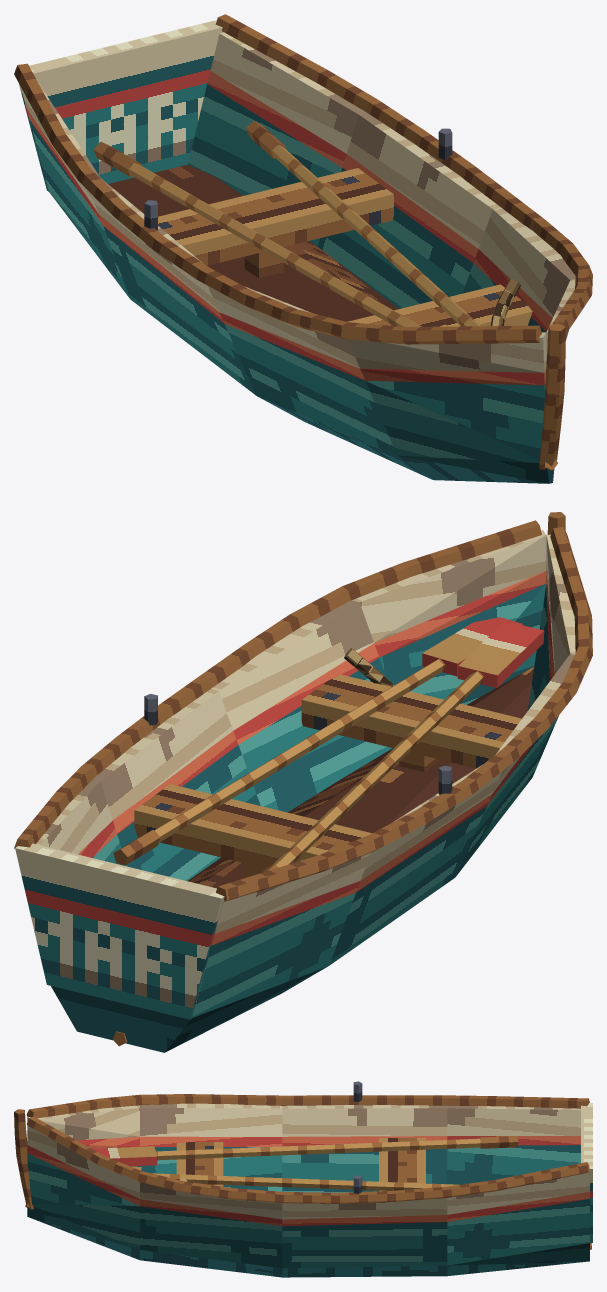
The model's file is boat.glb.
3 renders of one model, top to bottom at view 1: azimuth 30°, elevation 25°; view 2: azimuth 150°, elevation 25°; view 3: azimuth 270°, elevation 25°, orthographic. The views are drawn at different scales.
Parts seen in each view (by area): view 1: boat__transom, boat__bottom, boat__low3~x, boat__rail~x, boat__bench1, boat__rail, boat__low2~x, boat__cr1, boat__low0, boat__low1, boat__cr0, boat__low1~x (+20 smaller); view 2: boat__transom, boat__bottom, boat__rail, boat__rail~x, boat__bench2, boat__low0~x, boat__bench1, boat__cr2, boat__cr3, boat__low2, boat__cr1, boat__low1~x (+19 smaller); view 3: boat__low1, boat__rail, boat__bottom, boat__low0, boat__low2, boat__rail~x, boat__low3, boat__cr1~x, boat__cr2~x, boat__low0~x, boat__cr0~x, boat__low1~x (+22 smaller).
Part boxes in pixels (x1=…): boat__transom: x1=15, y1=20, x2=223, y2=191; boat__bottom: x1=108, y1=164, x2=554, y2=483; boat__low3~x: x1=365, y1=380, x2=546, y2=462; boat__rail~x: x1=14, y1=63, x2=541, y2=344; boat__bench1: x1=158, y1=168, x2=393, y2=265; boat__rail: x1=215, y1=14, x2=592, y2=332; boat__low2~x: x1=224, y1=324, x2=396, y2=455; boat__cr1: x1=346, y1=113, x2=500, y2=248; boat__low0: x1=187, y1=84, x2=341, y2=246; boat__low1: x1=317, y1=168, x2=473, y2=308; boat__cr0: x1=210, y1=32, x2=366, y2=153; boat__low1~x: x1=103, y1=226, x2=256, y2=395; boat__transom: x1=15, y1=843, x2=224, y2=1019; boat__bottom: x1=51, y1=667, x2=534, y2=1052; boat__rail: x1=14, y1=520, x2=541, y2=848; boat__rail~x: x1=215, y1=527, x2=592, y2=901; boat__bench2: x1=301, y1=674, x2=521, y2=768; boat__low0~x: x1=192, y1=893, x2=355, y2=1017; boat__bench1: x1=134, y1=784, x2=371, y2=868; boat__cr2: x1=211, y1=600, x2=373, y2=730; boat__cr3: x1=352, y1=530, x2=546, y2=642; boat__low2: x1=238, y1=658, x2=392, y2=812; boat__cr1: x1=93, y1=689, x2=233, y2=819; boat__low1~x: x1=329, y1=806, x2=486, y2=965; boat__low1: x1=282, y1=1222, x2=447, y2=1268; boat__rail: x1=26, y1=1116, x2=589, y2=1203; boat__bottom: x1=27, y1=1206, x2=589, y2=1277; boat__low0: x1=447, y1=1199, x2=589, y2=1265; boat__low2: x1=140, y1=1206, x2=282, y2=1268; boat__rail~x: x1=26, y1=1094, x2=589, y2=1118; boat__low3: x1=27, y1=1153, x2=139, y2=1249; boat__cr1~x: x1=282, y1=1105, x2=447, y2=1136; boat__cr2~x: x1=140, y1=1103, x2=282, y2=1136; boat__low0~x: x1=447, y1=1145, x2=580, y2=1184; boat__cr0~x: x1=447, y1=1105, x2=580, y2=1135; boat__low1~x: x1=282, y1=1149, x2=447, y2=1192.
Bounding box in the file's own units: 1.88 × 1.31 × 4.5.
12 materials, 12 textured.
